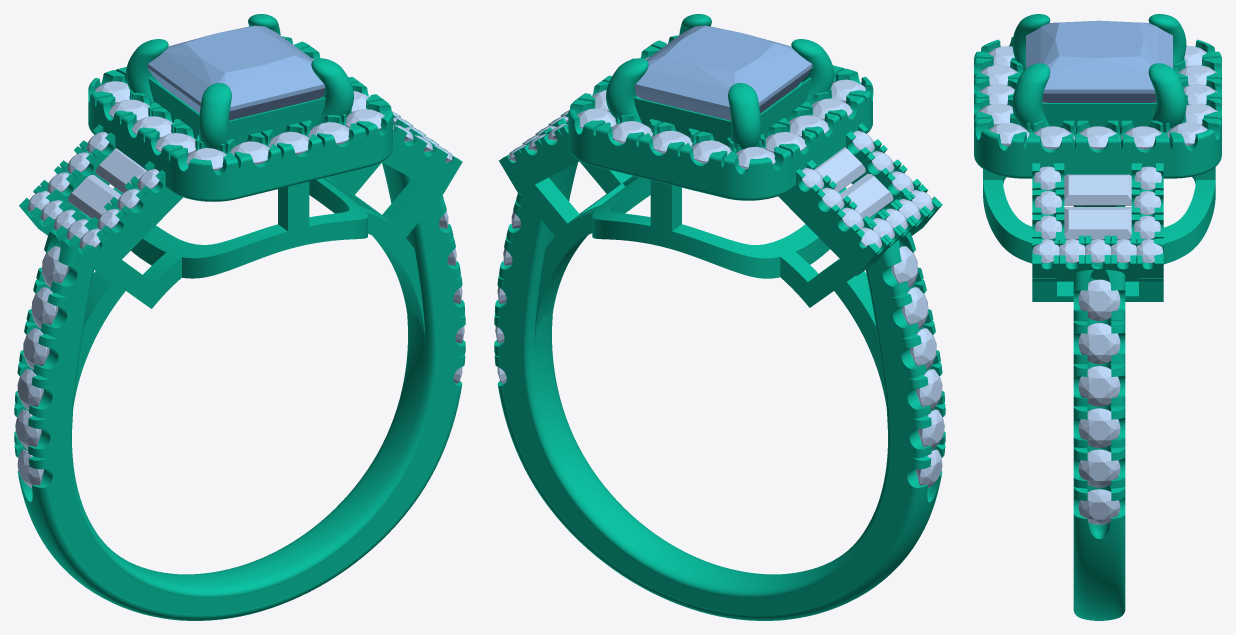
The picture shows the model from 3 angles, left to right: view 1: azimuth 30°, elevation 25°; view 2: azimuth 150°, elevation 25°; view 3: azimuth 270°, elevation 25°; orthographic projection.
Parts seen in each view (by area): view 1: JTC 13578(front).3dm, Diamond_Princess, GemOnCrv (×5), Diamond_Baguette Straight (×2); view 2: JTC 13578(front).3dm, Diamond_Princess, GemOnCrv (×5), Diamond_Baguette Straight (×2); view 3: JTC 13578(front).3dm, Diamond_Round (×24), Diamond_Princess, GemOnCrv (×6), Diamond_Baguette Straight (×2).
Boxes of the visible parts, <box> form: JTC 13578(front).3dm: <box>14,14,465,620</box>; Diamond_Princess: <box>147,25,325,120</box>; GemOnCrv (×5): <box>15,246,68,449</box>; Diamond_Baguette Straight (×2): <box>68,148,146,219</box>; JTC 13578(front).3dm: <box>494,14,945,620</box>; Diamond_Princess: <box>634,25,812,120</box>; GemOnCrv (×5): <box>891,246,944,449</box>; Diamond_Baguette Straight (×2): <box>814,147,893,218</box>; JTC 13578(front).3dm: <box>974,14,1221,620</box>; Diamond_Round (×24): <box>978,46,1217,263</box>; Diamond_Princess: <box>1026,20,1172,102</box>; GemOnCrv (×6): <box>1078,279,1120,524</box>; Diamond_Baguette Straight (×2): <box>1064,174,1131,239</box>.
Size of the model in its own units: 2.42 by 2.96 by 1.19.
